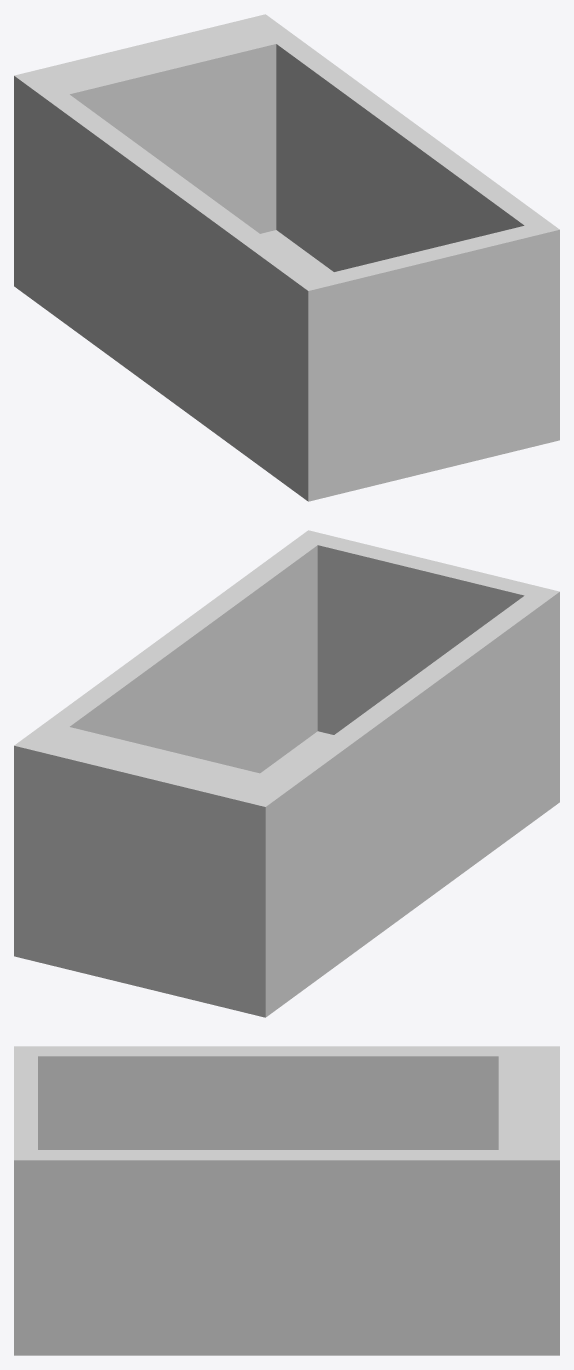
The model's file is Itr_Bath_Body_01.FBX.
3 renders of one model, top to bottom at view 1: azimuth 30°, elevation 25°; view 2: azimuth 150°, elevation 25°; view 3: azimuth 270°, elevation 25°, orthographic. The views are drawn at different scales.
Parts seen in each view (by area): view 1: Itr_Bath_Body_01; view 2: Itr_Bath_Body_01; view 3: Itr_Bath_Body_01.
Boxes of the visible parts, x1,y1,x2,y2 form: Itr_Bath_Body_01: (14,14,559,501); Itr_Bath_Body_01: (14,530,559,1017); Itr_Bath_Body_01: (14,1046,559,1355).
Size of the model in its own units: 39.37 by 31.5 by 79.76.
